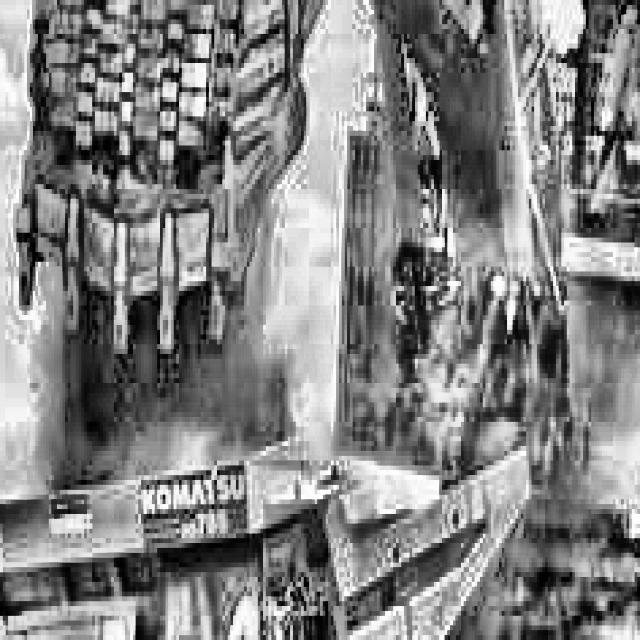dump_truck: (0, 422, 561, 640)
excavator: (19, 0, 640, 640)
